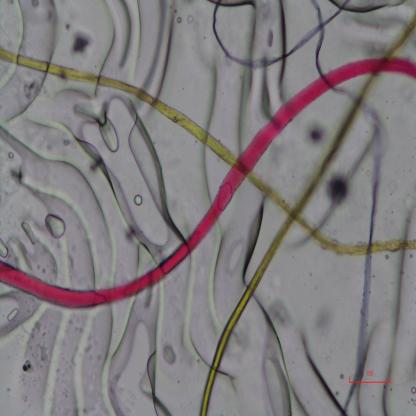Background material: (0, 99, 160, 267), (256, 271, 416, 416), (0, 314, 201, 416), (53, 9, 330, 83), (316, 108, 411, 224), (204, 28, 282, 134), (184, 207, 262, 312), (0, 7, 70, 58), (326, 170, 362, 208), (72, 27, 93, 53), (304, 123, 326, 146), (410, 386, 416, 394), (390, 388, 394, 392), (382, 384, 386, 388), (413, 400, 416, 405), (411, 398, 414, 402)
Microfibre: (0, 52, 416, 311), (0, 47, 416, 260), (200, 13, 416, 416)
